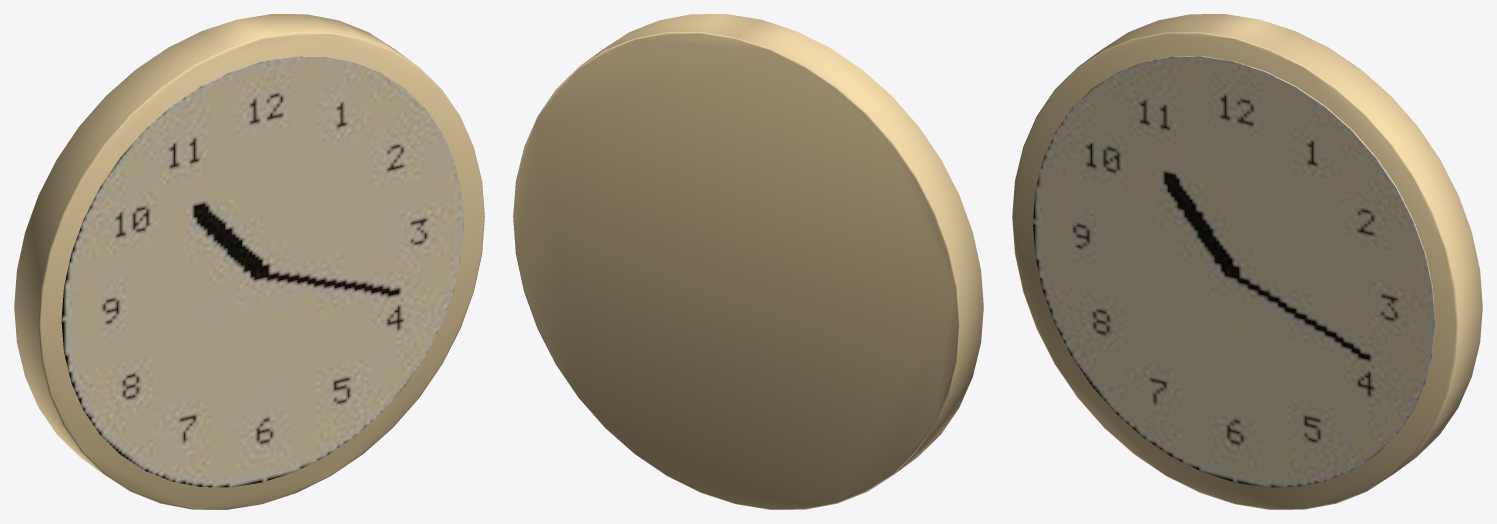
File: wall_clock.glb
3 views of the same model, side by side, from view 1: azimuth 30°, elevation 25°; view 2: azimuth 150°, elevation 25°; view 3: azimuth 330°, elevation 25° (orthographic).
Parts seen in each view (by area): view 1: Clock face, Clock rim; view 2: Clock rim; view 3: Clock face, Clock rim.
Boxes of the visible parts, x1,y1,x2,y2 form: Clock face: (61,56,463,487); Clock rim: (14,14,484,509); Clock rim: (513,14,983,509); Clock face: (1033,56,1435,487); Clock rim: (1012,14,1482,509).
Bounding box in the file's own units: 0.6 × 0.6 × 0.062.
2 materials, 1 textured.
